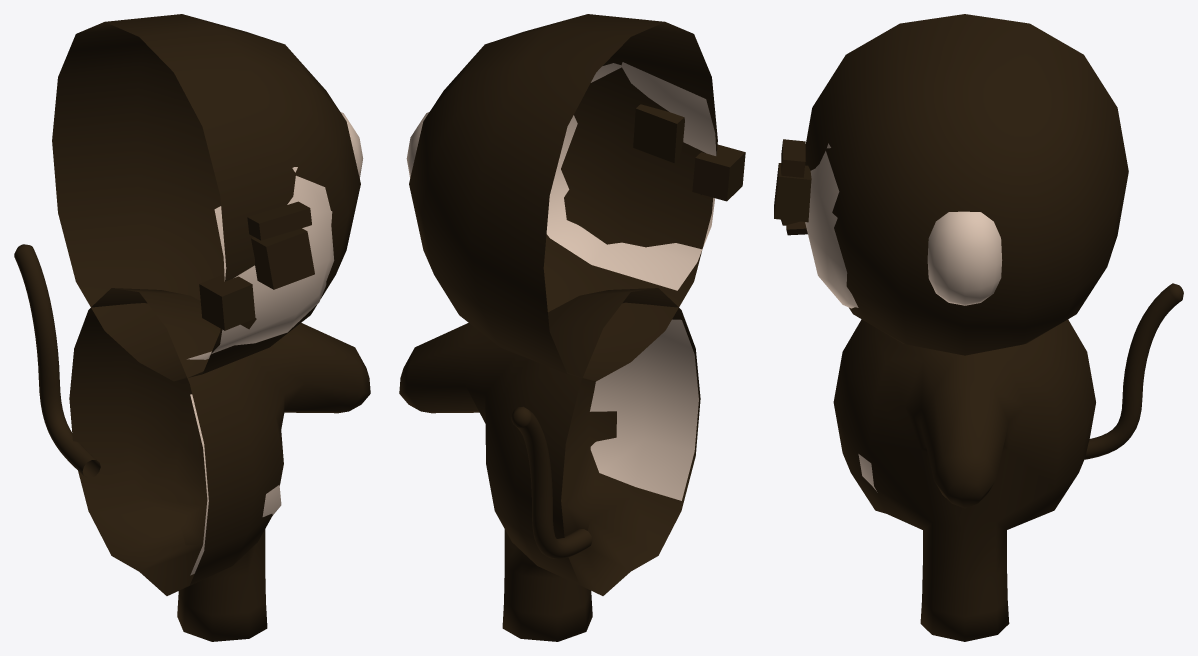
File: monkey.glb
3 renders of one model, left to right at view 1: azimuth 30°, elevation 25°; view 2: azimuth 150°, elevation 25°; view 3: azimuth 270°, elevation 25°, orthographic. The views are drawn at different scales.
Parts seen in each view (by area): view 1: Head2, Body, Face, Teil, Eye, Nose, Eyebrow, Belly; view 2: Head2, Body, Belly, Face, Teil, Eye, Nose; view 3: Head2, Body, Ear, Teil, Face, Eye, Eyebrow.
Part boxes in pixels (x1,y1,x2,y2): Head2: [52, 14, 360, 381]; Body: [69, 288, 370, 641]; Face: [187, 167, 334, 359]; Teil: [14, 244, 100, 478]; Eye: [251, 228, 314, 289]; Nose: [199, 274, 255, 330]; Eyebrow: [247, 201, 311, 240]; Belly: [190, 394, 281, 575]; Head2: [409, 14, 717, 381]; Body: [399, 288, 700, 641]; Belly: [590, 319, 698, 500]; Face: [546, 62, 716, 290]; Teil: [511, 406, 592, 558]; Eye: [633, 104, 684, 163]; Nose: [692, 144, 745, 201]; Head2: [805, 14, 1128, 355]; Body: [833, 319, 1095, 641]; Ear: [927, 211, 1002, 305]; Teil: [1084, 283, 1183, 459]; Face: [805, 143, 858, 308]; Eye: [774, 163, 811, 222]; Eyebrow: [781, 139, 805, 177].
Size of the model in its own units: 1.23 by 2.88 by 1.88.
